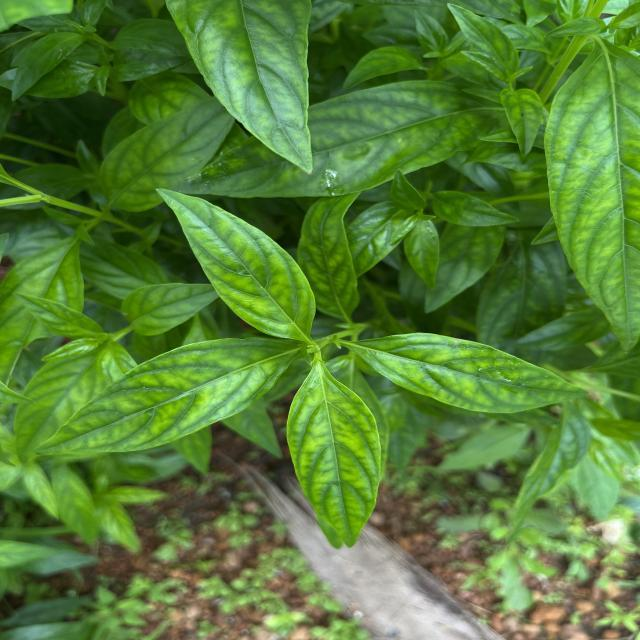Andrographis paniculata: (169, 76, 497, 198), (541, 38, 640, 352), (32, 334, 283, 456), (153, 184, 314, 337), (347, 330, 594, 416), (283, 363, 385, 550), (96, 95, 222, 214)
